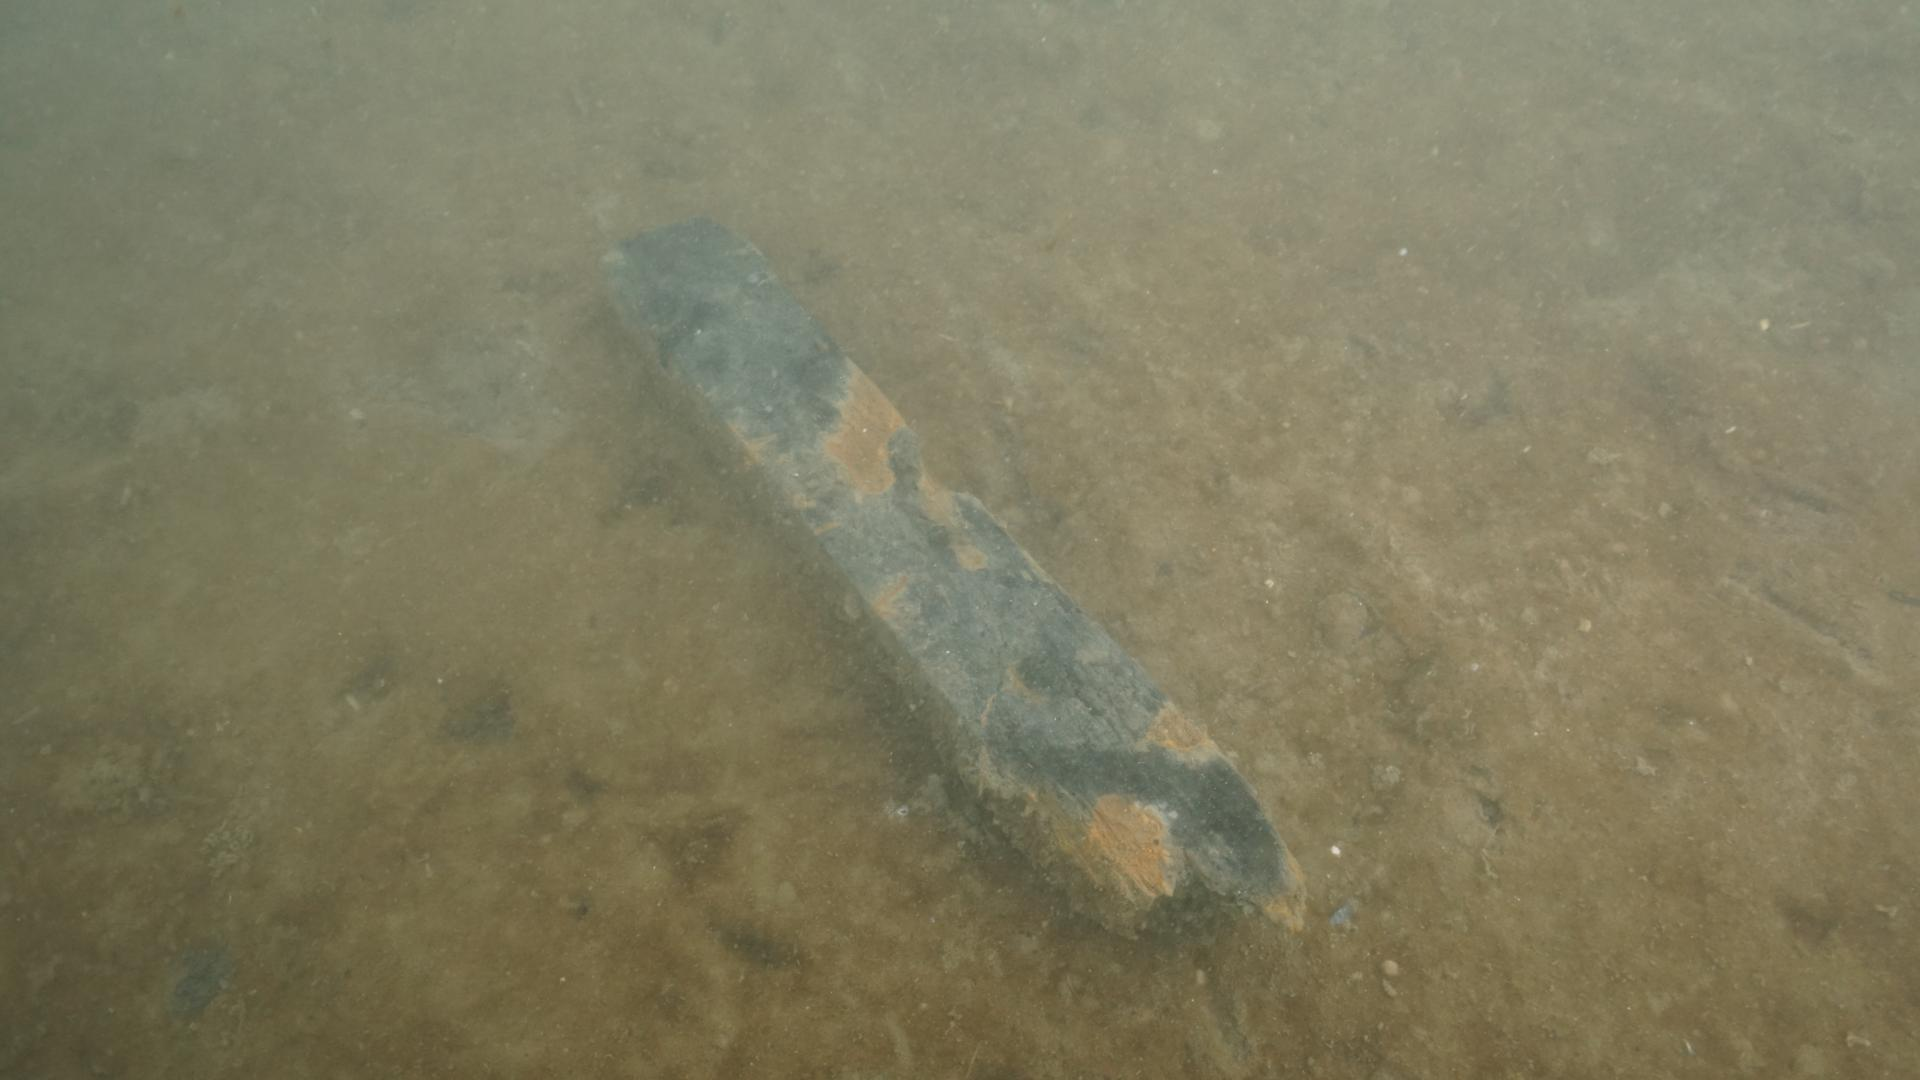wood: (585, 218, 1300, 928)
